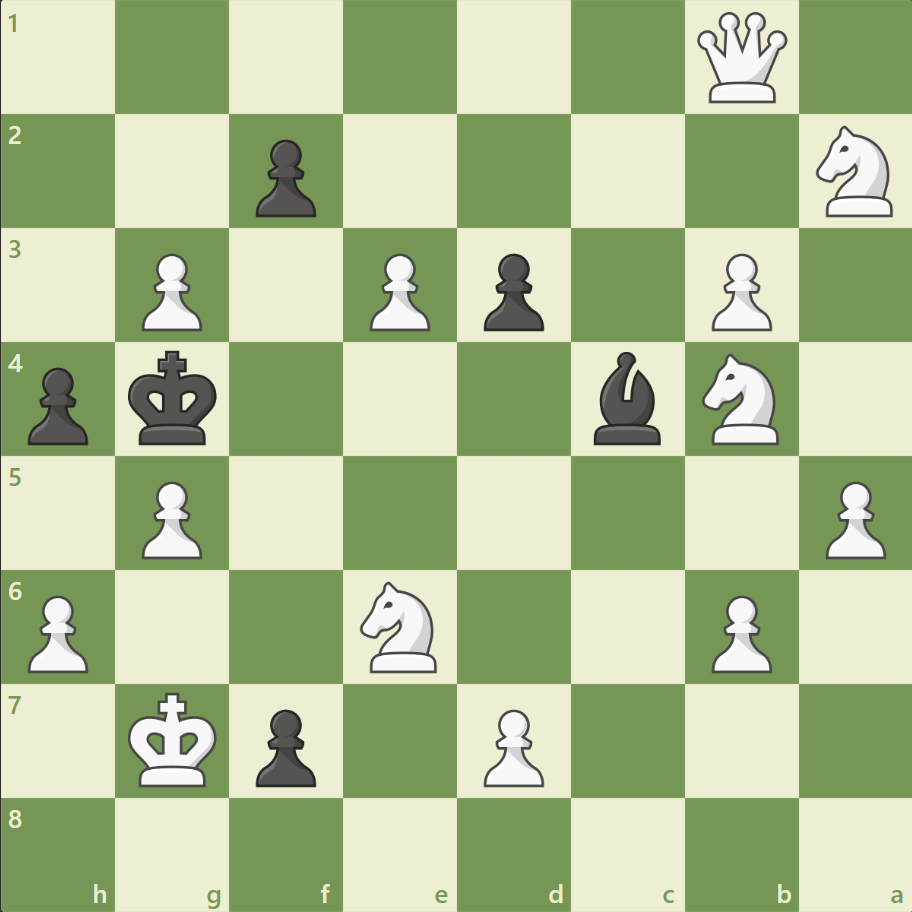K: (124, 685, 224, 793)
N: (351, 575, 449, 677), (692, 348, 789, 450), (806, 121, 903, 223)
P: (474, 700, 549, 791), (701, 586, 776, 677), (20, 586, 95, 677), (133, 473, 208, 564), (701, 246, 776, 337), (133, 246, 208, 337), (815, 473, 889, 564), (361, 246, 435, 337)
Q: (691, 9, 790, 108)
b: (585, 347, 669, 449)
k: (124, 344, 224, 452)
p: (247, 700, 322, 791), (20, 359, 95, 450), (474, 246, 549, 337), (247, 132, 322, 223)
